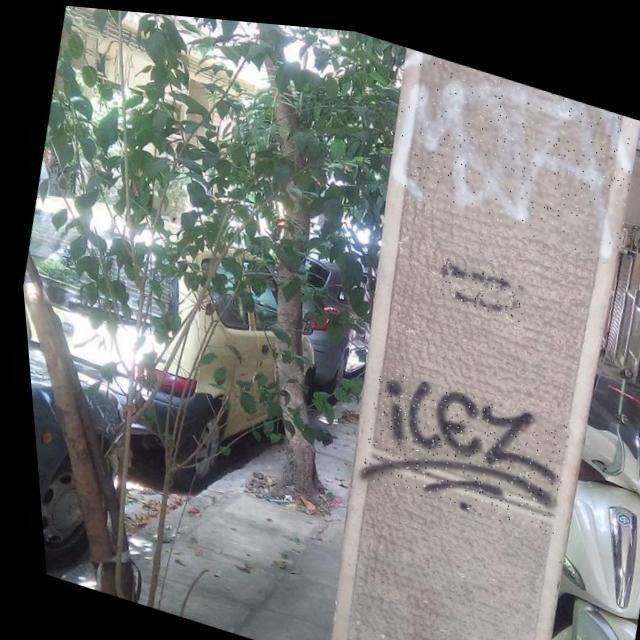-: (375, 38, 640, 254), (347, 358, 571, 529), (429, 249, 525, 313)
